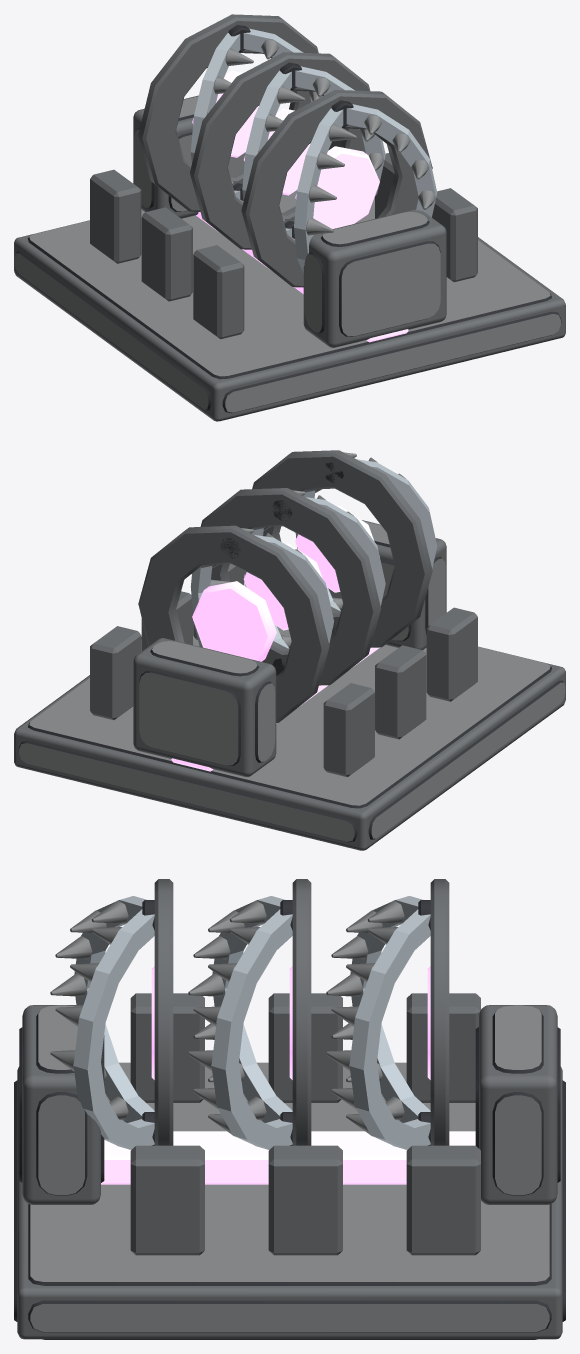
The model's file is R4X_SnareTrapDeployer.glb.
3 views of the same model, one above another, from view 1: azimuth 30°, elevation 25°; view 2: azimuth 150°, elevation 25°; view 3: azimuth 270°, elevation 25° (orthographic). The views are drawn at different scales.
Parts seen in each view (by area): view 1: R4X_SnareTrapDeployer_Body; view 2: R4X_SnareTrapDeployer_Body; view 3: R4X_SnareTrapDeployer_Body.
Boxes of the visible parts, box(x1,y1,x2,y2) form: R4X_SnareTrapDeployer_Body: box(14, 14, 565, 421); R4X_SnareTrapDeployer_Body: box(14, 450, 565, 850); R4X_SnareTrapDeployer_Body: box(14, 879, 565, 1339).
Size of the model in its own units: 0.52 by 0.3513 by 0.52.
